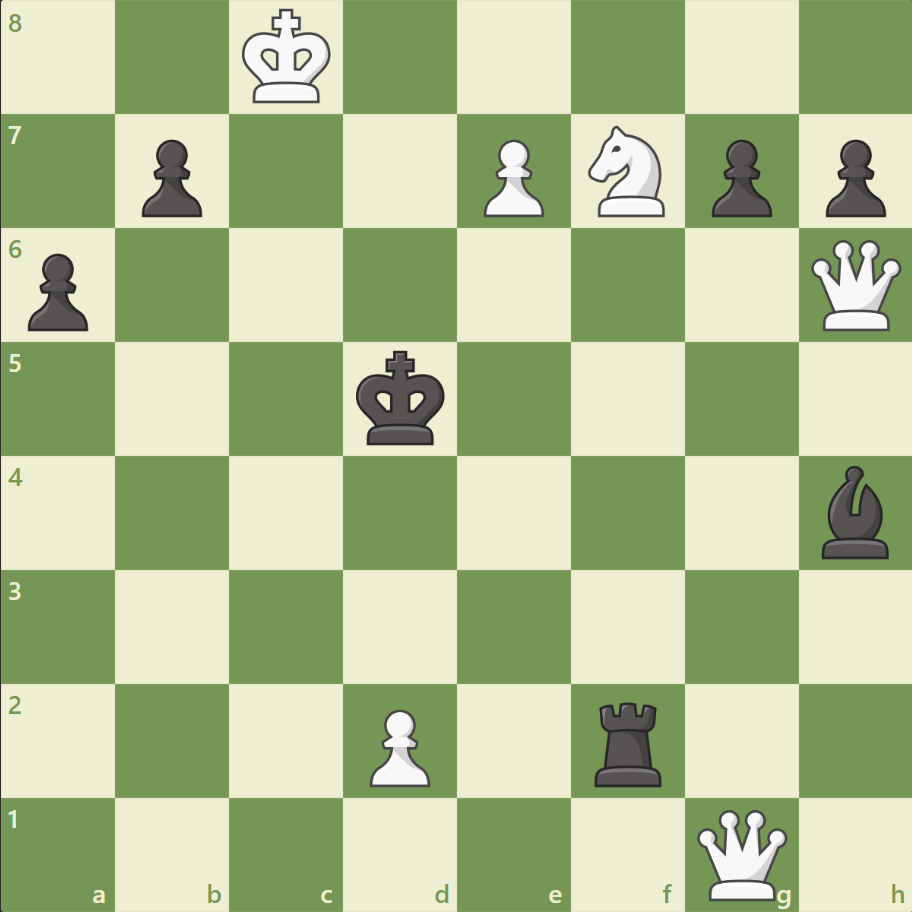K: (238, 4, 338, 112)
N: (579, 121, 676, 223)
P: (474, 132, 549, 223), (361, 700, 435, 791)
Q: (805, 236, 904, 335), (691, 804, 790, 903)
b: (812, 460, 896, 563)
k: (351, 344, 451, 452)
p: (133, 132, 208, 223), (701, 132, 776, 223), (20, 246, 95, 337), (815, 132, 889, 223)
r: (587, 693, 670, 790)
